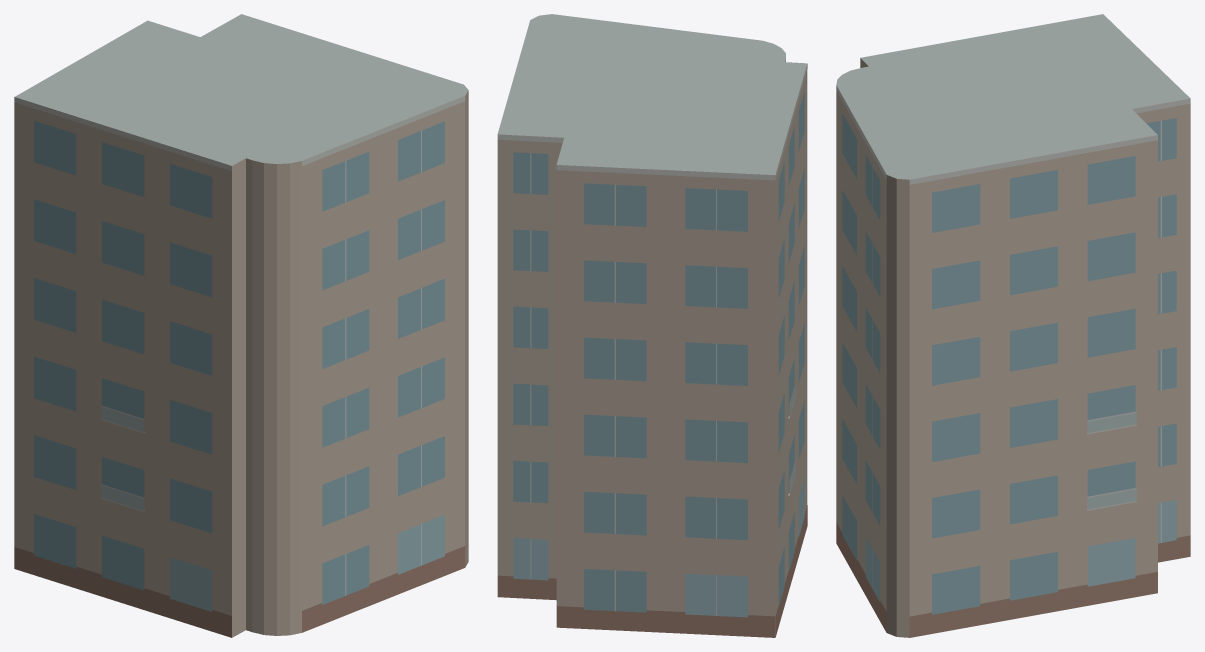
The model's file is survey-upis-32866163.glb.
The picture shows the model from 3 angles, left to right: view 1: azimuth 30°, elevation 25°; view 2: azimuth 150°, elevation 25°; view 3: azimuth 270°, elevation 25°; orthographic projection. The views are drawn at different scales.
Parts seen in each view (by area): view 1: survey-upis-32866163.tmp; view 2: survey-upis-32866163.tmp; view 3: survey-upis-32866163.tmp.
Boxes of the visible parts, <box> form: survey-upis-32866163.tmp: <box>14,14,468,637</box>; survey-upis-32866163.tmp: <box>497,14,807,637</box>; survey-upis-32866163.tmp: <box>836,14,1190,637</box>.
Size of the model in its own units: 16.76 by 21.6 by 15.15.
